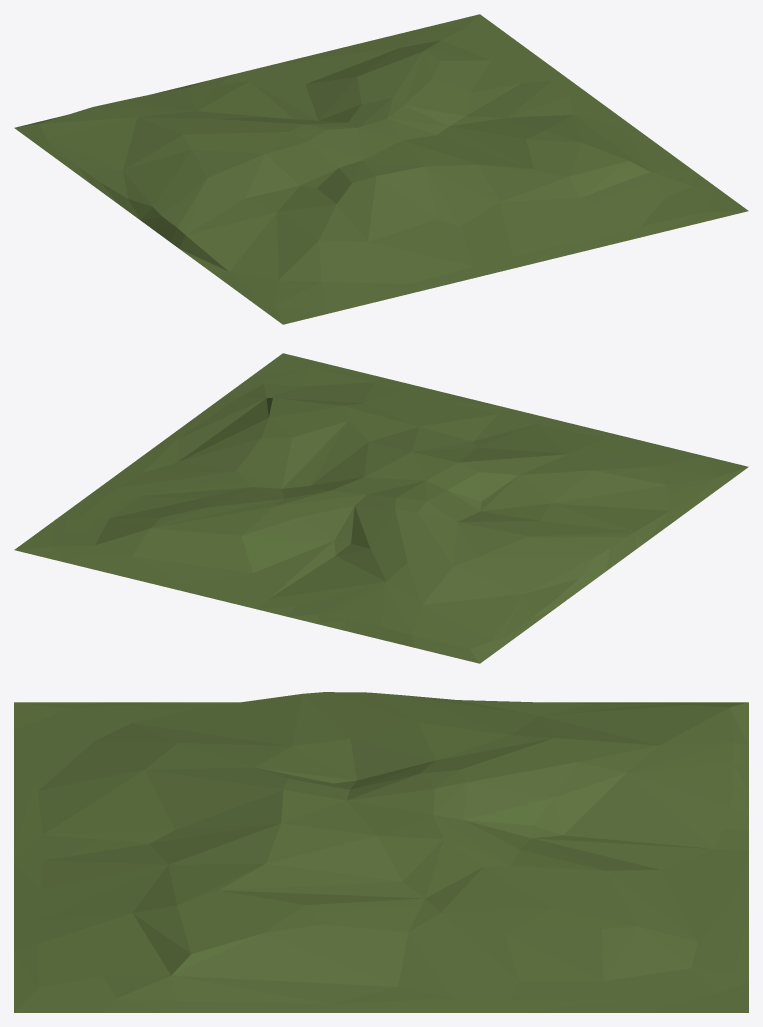
The model's file is Env_GroundMound2.glb.
3 renders of one model, top to bottom at view 1: azimuth 30°, elevation 25°; view 2: azimuth 150°, elevation 25°; view 3: azimuth 270°, elevation 25°, orthographic. The views are drawn at different scales.
Visible parts, largest first — view 1: Env_GroundMound2_geometry; view 2: Env_GroundMound2_geometry; view 3: Env_GroundMound2_geometry.
Boxes of the visible parts, box(x1,y1,x2,y2) form: Env_GroundMound2_geometry: box(14, 14, 748, 324); Env_GroundMound2_geometry: box(14, 353, 748, 663); Env_GroundMound2_geometry: box(14, 692, 748, 1012).
Bounding box in the file's own units: 14.28 × 0.9889 × 14.28.
1 material, 1 textured.
